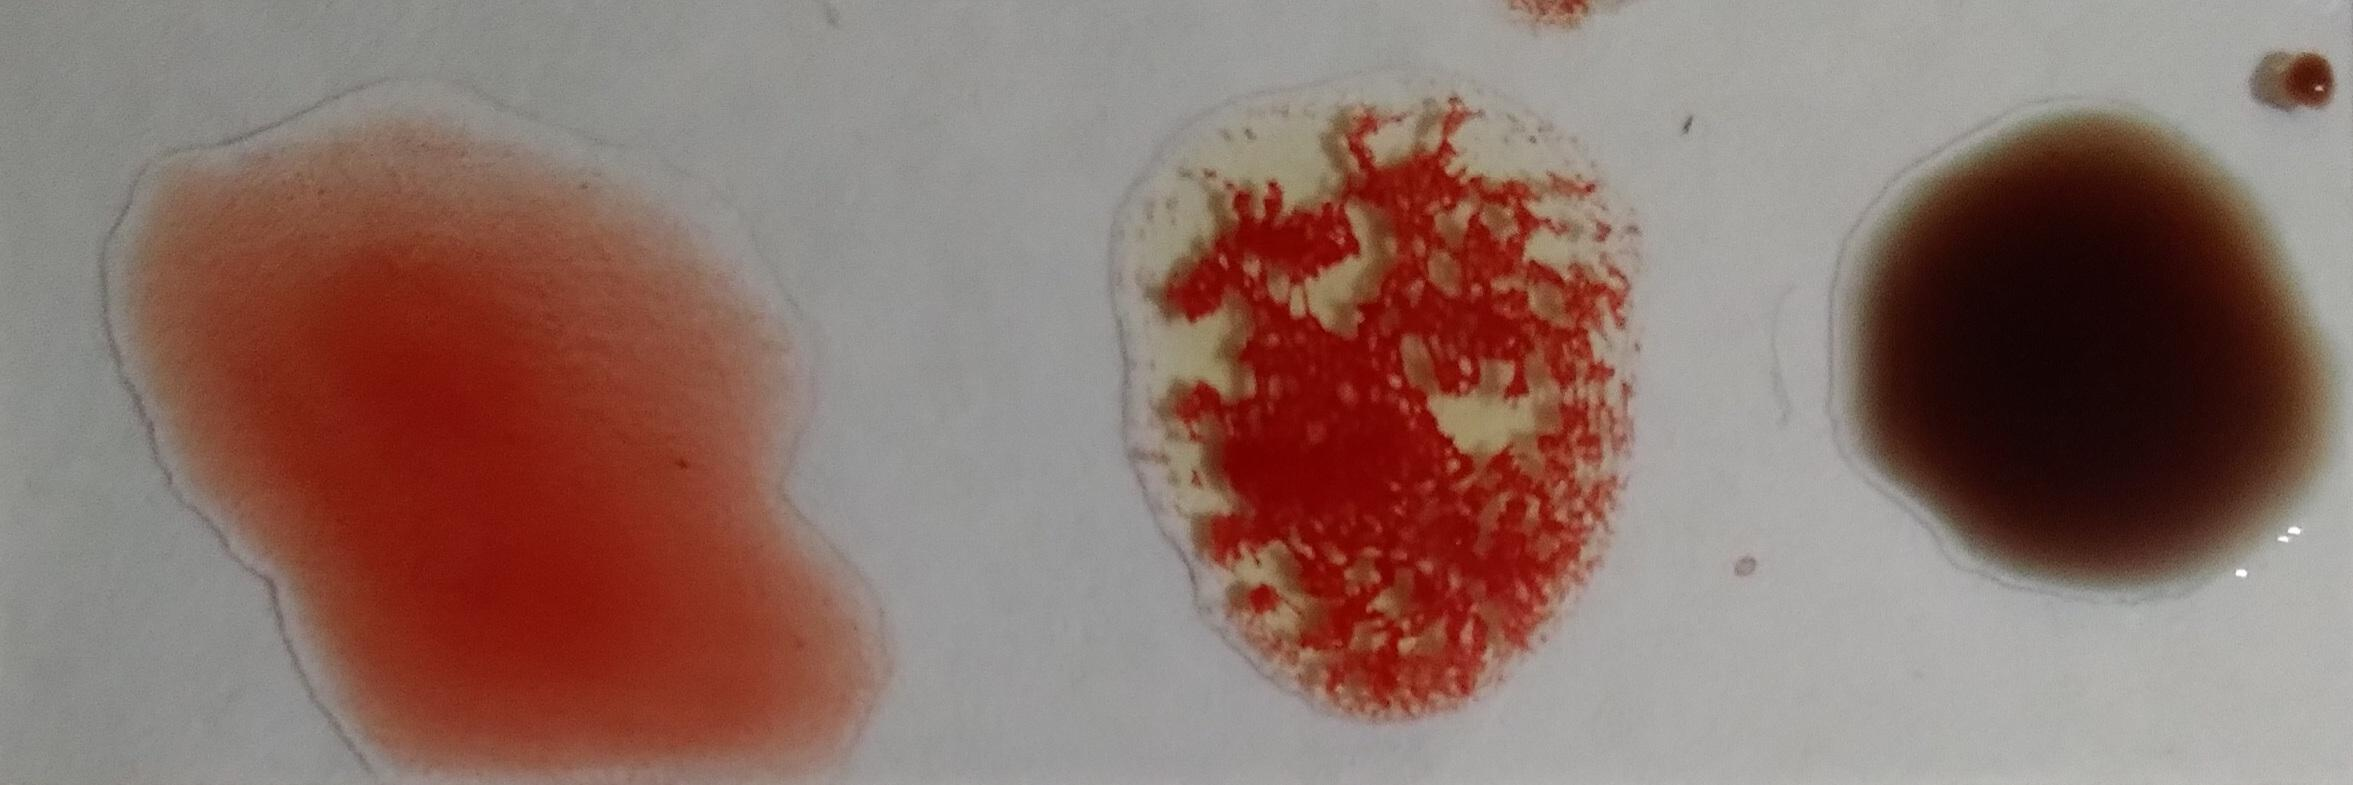B: (1100, 77, 1642, 720)
D: (120, 114, 843, 780)
